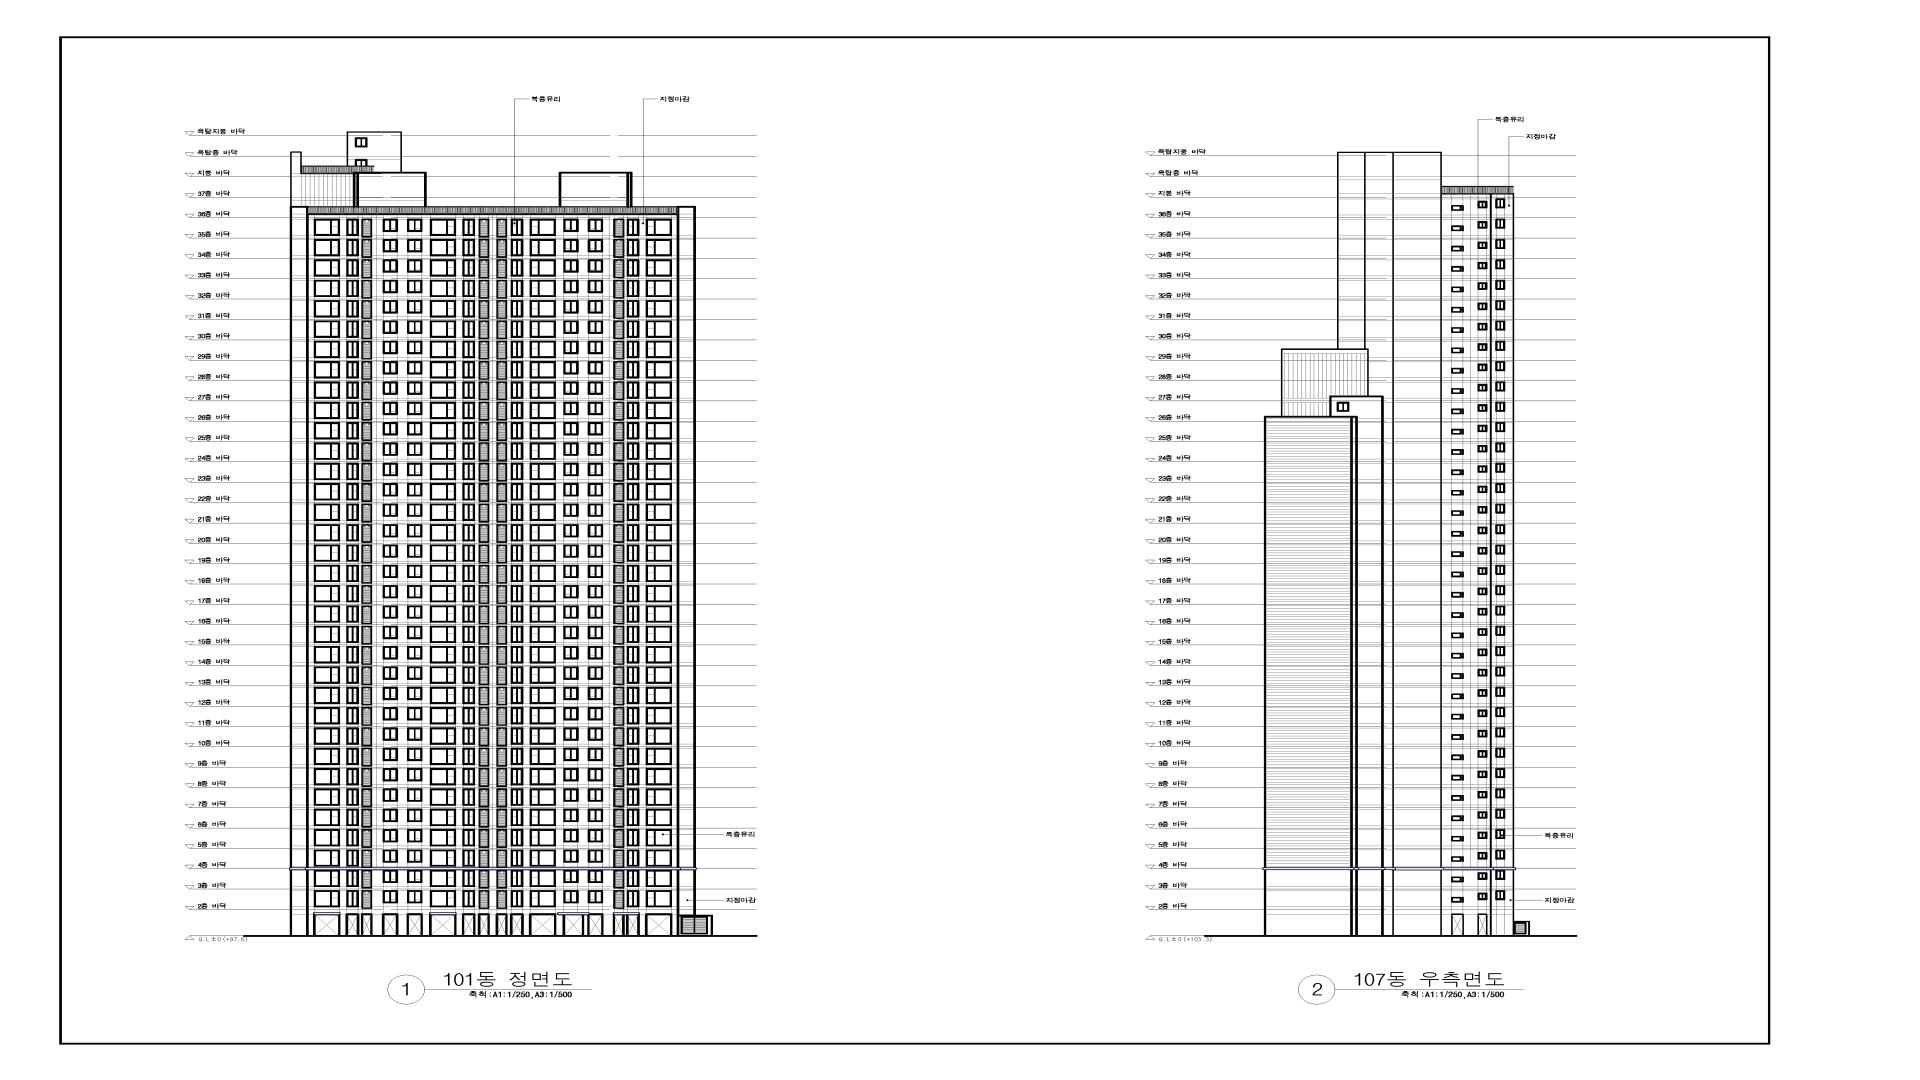door: (313, 913, 340, 935), (529, 914, 556, 935), (645, 914, 673, 935), (429, 915, 456, 935), (563, 914, 584, 935), (381, 913, 398, 935), (406, 913, 423, 935), (587, 914, 604, 935), (345, 913, 360, 935), (462, 914, 476, 935), (510, 913, 524, 935), (1451, 914, 1464, 936), (477, 914, 491, 935), (626, 915, 640, 935), (361, 914, 373, 935), (496, 914, 508, 935), (1477, 914, 1487, 936), (613, 915, 625, 935)
wall: (290, 132, 713, 938), (1263, 152, 1514, 936)
window: (680, 916, 708, 935), (314, 340, 340, 359), (314, 442, 340, 460), (314, 483, 340, 501), (314, 524, 340, 542), (646, 442, 673, 460), (646, 483, 673, 501), (646, 564, 673, 583), (646, 666, 673, 684), (646, 767, 673, 786), (646, 340, 673, 359), (530, 442, 556, 460), (530, 564, 556, 583), (530, 666, 556, 684), (530, 707, 556, 725), (530, 767, 556, 786), (530, 808, 556, 827), (530, 869, 556, 887), (430, 340, 456, 359), (430, 381, 456, 400), (430, 442, 456, 460), (430, 483, 456, 501), (430, 524, 456, 542), (430, 564, 456, 583), (430, 666, 456, 684), (430, 767, 456, 786), (314, 666, 340, 684), (314, 767, 340, 786), (314, 260, 340, 277), (314, 280, 340, 297), (314, 301, 340, 318), (314, 320, 340, 338), (314, 361, 340, 378), (314, 381, 340, 398), (314, 402, 340, 419), (314, 422, 340, 439), (314, 463, 340, 480), (314, 504, 340, 521), (314, 545, 340, 562), (314, 564, 340, 582), (314, 585, 340, 603), (314, 605, 340, 622), (314, 626, 340, 644), (314, 646, 340, 663), (646, 381, 673, 398), (646, 402, 673, 419), (646, 422, 673, 439), (646, 463, 673, 480), (646, 504, 673, 521), (646, 525, 673, 542), (646, 545, 673, 562), (646, 585, 673, 603), (646, 605, 673, 622), (646, 626, 673, 644), (646, 646, 673, 663), (646, 687, 673, 704), (646, 707, 673, 724), (646, 728, 673, 745), (646, 748, 673, 765), (646, 789, 673, 806), (646, 808, 673, 825), (646, 829, 673, 847), (646, 849, 673, 866), (646, 870, 673, 887), (646, 890, 673, 907), (530, 219, 556, 236), (530, 239, 556, 256), (530, 260, 556, 277), (530, 280, 556, 297), (530, 301, 556, 318), (530, 320, 556, 338), (646, 219, 673, 236), (646, 239, 673, 256), (646, 260, 673, 277), (646, 280, 673, 297), (646, 301, 673, 318), (646, 320, 673, 338), (646, 361, 673, 378), (530, 342, 556, 359), (530, 361, 556, 378), (530, 381, 556, 398), (530, 402, 556, 419), (530, 422, 556, 439), (530, 463, 556, 480), (530, 483, 556, 500), (530, 504, 556, 521), (530, 525, 556, 542), (530, 545, 556, 562), (530, 585, 556, 603), (530, 605, 556, 622), (530, 626, 556, 644), (530, 646, 556, 663), (530, 687, 556, 704), (530, 728, 556, 745), (530, 748, 556, 765), (530, 789, 556, 806), (530, 829, 556, 847), (530, 849, 556, 866), (530, 890, 556, 907), (430, 219, 456, 236), (430, 239, 456, 256), (430, 260, 456, 277), (430, 280, 456, 297), (430, 301, 456, 318), (430, 320, 456, 338), (430, 361, 456, 378), (430, 402, 456, 419), (430, 422, 456, 439), (430, 463, 456, 480), (430, 504, 456, 521), (430, 545, 456, 562), (430, 585, 456, 603), (430, 605, 456, 622), (430, 626, 456, 644), (430, 646, 456, 663), (430, 687, 456, 704), (430, 707, 456, 724), (430, 728, 456, 745), (430, 748, 456, 765), (430, 789, 456, 806), (430, 808, 456, 825), (430, 829, 456, 847), (430, 849, 456, 866), (430, 870, 456, 887), (430, 890, 456, 907), (314, 219, 340, 236), (314, 239, 340, 256), (314, 687, 340, 704), (314, 707, 340, 724), (314, 728, 340, 745), (314, 748, 340, 765), (314, 789, 340, 806), (314, 808, 340, 825), (314, 829, 340, 847), (314, 849, 340, 866), (314, 870, 340, 887), (314, 890, 340, 907), (510, 340, 524, 359), (510, 442, 524, 460), (510, 666, 524, 684), (510, 767, 524, 786), (510, 808, 524, 827), (626, 258, 640, 277), (626, 340, 640, 359), (626, 381, 640, 400), (626, 442, 640, 460), (626, 666, 640, 684), (626, 767, 640, 786), (626, 808, 640, 827), (626, 869, 640, 887), (613, 239, 625, 258), (613, 280, 625, 299), (613, 340, 625, 360), (613, 442, 625, 462), (613, 483, 625, 502), (613, 564, 625, 584), (613, 666, 625, 686), (613, 808, 625, 828), (496, 564, 508, 584), (496, 625, 508, 645), (496, 808, 508, 828), (613, 869, 625, 889), (496, 239, 508, 258), (496, 280, 508, 299), (496, 340, 508, 360), (496, 442, 508, 462), (496, 483, 508, 502), (588, 767, 604, 782), (563, 767, 579, 782), (563, 666, 579, 680), (382, 340, 398, 355), (382, 442, 398, 456), (382, 666, 398, 680), (510, 280, 524, 297), (510, 301, 524, 318), (510, 320, 524, 338), (510, 361, 524, 378), (510, 381, 524, 398), (510, 402, 524, 419), (510, 422, 524, 439), (510, 463, 524, 480), (510, 483, 524, 500), (510, 504, 524, 521), (510, 525, 524, 542), (510, 545, 524, 562), (510, 564, 524, 582), (510, 585, 524, 603), (510, 605, 524, 622), (510, 626, 524, 644), (510, 646, 524, 663), (510, 687, 524, 704), (510, 707, 524, 724), (510, 728, 524, 745), (510, 748, 524, 765), (510, 789, 524, 806), (510, 829, 524, 847), (510, 849, 524, 866), (510, 870, 524, 887), (510, 890, 524, 907), (626, 219, 640, 236), (626, 239, 640, 256), (626, 280, 640, 297), (626, 301, 640, 318), (626, 320, 640, 338), (626, 361, 640, 378), (626, 402, 640, 419), (626, 422, 640, 439), (626, 463, 640, 480), (626, 483, 640, 500), (626, 504, 640, 521), (626, 525, 640, 542), (626, 545, 640, 562), (626, 564, 640, 582), (626, 585, 640, 603), (626, 605, 640, 622), (626, 626, 640, 644), (626, 646, 640, 663), (626, 687, 640, 704), (626, 707, 640, 724), (626, 728, 640, 745), (626, 748, 640, 765), (626, 789, 640, 806), (626, 829, 640, 847), (626, 849, 640, 866), (626, 890, 640, 907), (510, 219, 524, 236), (510, 239, 524, 256), (510, 260, 524, 277), (613, 219, 625, 237), (613, 260, 625, 278), (613, 301, 625, 319), (613, 320, 625, 339), (613, 361, 625, 380), (613, 381, 625, 400), (613, 402, 625, 421), (613, 422, 625, 440), (613, 463, 625, 481), (613, 504, 625, 522), (613, 525, 625, 543), (613, 545, 625, 563), (613, 585, 625, 604), (613, 605, 625, 624), (613, 646, 625, 665), (613, 687, 625, 705), (613, 707, 625, 725), (613, 728, 625, 746), (613, 748, 625, 766), (613, 769, 625, 787), (613, 789, 625, 807), (613, 829, 625, 848), (613, 849, 625, 868), (496, 525, 508, 543), (496, 545, 508, 563), (496, 585, 508, 604), (496, 605, 508, 624), (496, 646, 508, 665), (496, 687, 508, 705), (496, 707, 508, 725), (496, 728, 508, 746), (496, 748, 508, 766), (496, 769, 508, 787), (496, 789, 508, 807), (463, 239, 475, 257), (463, 767, 475, 786), (463, 808, 475, 827), (463, 869, 475, 887), (347, 340, 359, 359), (347, 442, 359, 460), (347, 483, 359, 501), (347, 524, 359, 542), (347, 666, 359, 684), (613, 890, 625, 909), (496, 219, 508, 237), (496, 260, 508, 278), (496, 301, 508, 319), (496, 320, 508, 339), (496, 361, 508, 380), (496, 381, 508, 400), (496, 402, 508, 421), (496, 422, 508, 440), (496, 504, 508, 522), (496, 829, 508, 848), (496, 849, 508, 868), (496, 870, 508, 889), (496, 890, 508, 909), (463, 442, 475, 460), (463, 483, 475, 501), (463, 666, 475, 684), (347, 707, 359, 725), (347, 767, 359, 786), (347, 808, 359, 827), (347, 869, 359, 887), (407, 483, 422, 497), (407, 666, 422, 680), (588, 280, 603, 294), (588, 340, 603, 355), (588, 381, 603, 396), (588, 442, 603, 456), (588, 483, 603, 497), (588, 666, 603, 680), (361, 564, 372, 584), (361, 666, 372, 686), (361, 767, 372, 787), (361, 808, 372, 828), (479, 524, 489, 543), (479, 564, 489, 584), (479, 625, 489, 645), (497, 666, 508, 686), (479, 666, 489, 686), (479, 767, 489, 787), (479, 808, 489, 828), (588, 808, 604, 822), (588, 849, 604, 862), (588, 870, 604, 884), (563, 890, 579, 903), (563, 870, 579, 884), (563, 849, 579, 862), (563, 829, 579, 843), (563, 808, 579, 822), (563, 789, 579, 802), (563, 748, 579, 761), (563, 728, 579, 741), (563, 707, 579, 720), (563, 687, 579, 700), (563, 646, 579, 659), (563, 626, 579, 640), (563, 320, 579, 334), (563, 301, 579, 314), (563, 280, 579, 293), (563, 260, 579, 273), (563, 239, 579, 252), (563, 219, 579, 232), (361, 239, 372, 258), (361, 340, 372, 360), (361, 483, 372, 502), (361, 524, 372, 543), (479, 239, 489, 258), (479, 340, 489, 360), (479, 442, 489, 462), (479, 483, 489, 502), (588, 301, 604, 314), (588, 320, 604, 334), (588, 361, 604, 375), (588, 525, 604, 538), (588, 545, 604, 558), (588, 585, 604, 599), (588, 626, 604, 640), (588, 646, 604, 659), (588, 687, 604, 700), (588, 728, 604, 741), (563, 605, 579, 618), (563, 585, 579, 599), (563, 564, 579, 578), (563, 545, 579, 558), (563, 525, 579, 538), (563, 504, 579, 517), (563, 483, 579, 496), (563, 463, 579, 476), (563, 443, 579, 456), (563, 422, 579, 435), (563, 402, 579, 415), (563, 381, 579, 394), (563, 361, 579, 375), (563, 342, 579, 355), (382, 219, 398, 232), (382, 239, 398, 252), (382, 260, 398, 273), (382, 280, 398, 293), (382, 301, 398, 314), (382, 320, 398, 334), (382, 361, 398, 375), (382, 381, 398, 394), (382, 402, 398, 415), (382, 422, 398, 435), (382, 463, 398, 476), (382, 483, 398, 496), (382, 504, 398, 517), (382, 525, 398, 538), (382, 545, 398, 558), (382, 564, 398, 578), (382, 585, 398, 599), (382, 605, 398, 618), (382, 626, 398, 640), (382, 646, 398, 659), (382, 687, 398, 700), (382, 707, 398, 720), (382, 728, 398, 741), (382, 748, 398, 761), (382, 769, 398, 782), (382, 789, 398, 802), (382, 808, 398, 822), (382, 829, 398, 843), (382, 849, 398, 862), (382, 870, 398, 884), (382, 890, 398, 903), (463, 789, 475, 806), (463, 829, 475, 847), (463, 849, 475, 866), (463, 890, 475, 907), (347, 219, 359, 236), (347, 239, 359, 256), (347, 260, 359, 277), (347, 280, 359, 297), (347, 301, 359, 318), (347, 320, 359, 338), (347, 361, 359, 378), (347, 381, 359, 398), (347, 402, 359, 419), (347, 422, 359, 439), (347, 463, 359, 480), (347, 504, 359, 521), (347, 545, 359, 562), (347, 564, 359, 582), (347, 585, 359, 603), (347, 605, 359, 622), (347, 626, 359, 644), (347, 646, 359, 663), (347, 687, 359, 704), (463, 219, 475, 236), (463, 260, 475, 277), (463, 280, 475, 297), (463, 301, 475, 318), (463, 320, 475, 338), (463, 342, 475, 359), (463, 361, 475, 378), (463, 381, 475, 398), (463, 402, 475, 419), (463, 422, 475, 439), (463, 463, 475, 480), (463, 504, 475, 521), (463, 525, 475, 542), (463, 545, 475, 562), (463, 564, 475, 582), (463, 585, 475, 603), (463, 605, 475, 622), (463, 626, 475, 644), (463, 646, 475, 663), (463, 687, 475, 704), (463, 707, 475, 724), (463, 728, 475, 745), (463, 748, 475, 765), (347, 728, 359, 745), (347, 748, 359, 765), (347, 789, 359, 806), (347, 829, 359, 847), (347, 849, 359, 866), (347, 890, 359, 907), (361, 585, 372, 604), (361, 605, 372, 624), (361, 626, 372, 645), (361, 646, 372, 665), (361, 687, 372, 705), (361, 707, 372, 725), (361, 728, 372, 746), (361, 748, 372, 766), (361, 789, 372, 807), (361, 829, 372, 848), (361, 849, 372, 868), (361, 870, 372, 889), (361, 890, 372, 909), (613, 626, 624, 645), (479, 504, 489, 522), (479, 545, 489, 563), (479, 585, 489, 604), (479, 605, 489, 624), (479, 646, 489, 665), (479, 687, 489, 705), (479, 707, 489, 725), (479, 728, 489, 746), (479, 748, 489, 766), (479, 789, 489, 807), (361, 219, 372, 237), (361, 260, 372, 278), (361, 280, 372, 298), (361, 301, 372, 319), (361, 320, 372, 339), (361, 361, 372, 380), (361, 381, 372, 400), (361, 402, 372, 421), (361, 422, 372, 440), (361, 443, 372, 462), (361, 463, 372, 481), (361, 504, 372, 522), (361, 545, 372, 563), (479, 219, 489, 237), (479, 260, 489, 278), (479, 280, 489, 298), (479, 301, 489, 319), (479, 320, 489, 339), (479, 361, 489, 380), (479, 381, 489, 400), (479, 402, 489, 421), (479, 422, 489, 440), (497, 463, 508, 481), (479, 463, 489, 481), (479, 829, 489, 848), (479, 849, 489, 868), (479, 870, 489, 889), (479, 890, 489, 909), (588, 748, 603, 761), (588, 789, 603, 802), (588, 829, 603, 843), (588, 890, 603, 903), (407, 219, 422, 232), (407, 239, 422, 252), (407, 260, 422, 273), (407, 280, 422, 293), (407, 301, 422, 314), (407, 320, 422, 334), (407, 342, 422, 355), (407, 361, 422, 375), (407, 381, 422, 394), (407, 402, 422, 415), (407, 422, 422, 435), (407, 443, 422, 456), (407, 463, 422, 476), (407, 504, 422, 517), (407, 525, 422, 538), (407, 545, 422, 558), (407, 564, 422, 578), (407, 585, 422, 599), (407, 605, 422, 618), (407, 626, 422, 640), (407, 646, 422, 659), (588, 219, 603, 232), (588, 239, 603, 252), (588, 260, 603, 273), (588, 402, 603, 415), (588, 422, 603, 435), (588, 463, 603, 476), (588, 504, 603, 517), (588, 564, 603, 578), (588, 605, 603, 618), (588, 707, 603, 720), (407, 687, 422, 700), (407, 707, 422, 720), (407, 728, 422, 741), (407, 748, 422, 761), (407, 769, 422, 782), (407, 789, 422, 802), (407, 808, 422, 822), (407, 829, 422, 843), (407, 849, 422, 862), (407, 870, 422, 884), (407, 890, 422, 903), (1514, 922, 1527, 935), (355, 137, 368, 148), (355, 158, 368, 167), (1495, 890, 1506, 901), (1495, 869, 1506, 880), (1495, 849, 1506, 860), (1495, 828, 1506, 839), (1495, 789, 1506, 799), (1495, 767, 1506, 778), (1495, 748, 1506, 758), (1495, 727, 1506, 737), (1495, 707, 1506, 717), (1495, 666, 1506, 676), (1495, 646, 1506, 657), (1495, 625, 1506, 636), (1495, 605, 1506, 616), (1495, 585, 1506, 596), (1495, 564, 1506, 575), (1495, 545, 1506, 555), (1495, 524, 1506, 534), (1495, 504, 1506, 514), (1495, 483, 1506, 493), (1495, 442, 1506, 452), (1495, 422, 1506, 433), (1495, 381, 1506, 392), (1495, 361, 1506, 372), (1495, 320, 1506, 331), (1495, 299, 1506, 310), (1495, 280, 1506, 290), (1495, 258, 1506, 269), (1495, 239, 1506, 249), (1337, 402, 1349, 411), (1495, 808, 1505, 819), (1495, 463, 1505, 473), (1495, 402, 1506, 411), (1495, 340, 1505, 351), (1495, 219, 1505, 229), (1495, 198, 1505, 208), (1451, 774, 1464, 781), (1451, 754, 1464, 761), (1451, 713, 1464, 720), (1451, 673, 1464, 679), (1451, 612, 1464, 618), (1451, 571, 1464, 578), (1451, 489, 1464, 496), (1451, 448, 1464, 455), (1451, 429, 1464, 435), (1451, 388, 1464, 394), (1451, 347, 1464, 353), (1451, 327, 1464, 334), (1451, 286, 1464, 293), (1451, 245, 1464, 252), (1451, 897, 1464, 903), (1451, 856, 1464, 862), (1451, 815, 1464, 822), (1495, 687, 1505, 696), (1477, 893, 1487, 901), (1477, 872, 1487, 880), (1477, 852, 1487, 860), (1477, 831, 1487, 839), (1477, 811, 1487, 819), (1477, 791, 1487, 799), (1477, 770, 1487, 778), (1477, 750, 1487, 758), (1477, 729, 1487, 737), (1477, 709, 1487, 717), (1477, 669, 1487, 676), (1477, 649, 1487, 657), (1477, 628, 1487, 636), (1477, 608, 1487, 616), (1477, 567, 1487, 575), (1477, 547, 1487, 555), (1477, 526, 1487, 534), (1477, 506, 1487, 514), (1477, 485, 1487, 493), (1477, 465, 1487, 473), (1477, 444, 1487, 452), (1477, 425, 1487, 433), (1477, 404, 1487, 411), (1477, 384, 1487, 392), (1477, 343, 1487, 351), (1477, 323, 1487, 331), (1477, 302, 1487, 310), (1477, 282, 1487, 290), (1477, 261, 1487, 269), (1477, 241, 1487, 249), (1477, 222, 1487, 229), (1477, 200, 1487, 208), (1451, 795, 1464, 800), (1451, 735, 1464, 740), (1451, 694, 1464, 699), (1451, 653, 1464, 658), (1451, 633, 1464, 638), (1451, 592, 1464, 597), (1451, 551, 1464, 556), (1451, 531, 1464, 537), (1451, 510, 1464, 516), (1451, 469, 1464, 475), (1451, 409, 1464, 414), (1451, 368, 1464, 373), (1451, 307, 1464, 313), (1451, 266, 1464, 272), (1451, 225, 1464, 231), (1451, 206, 1464, 211), (1477, 690, 1487, 696), (1477, 588, 1487, 595), (1477, 364, 1487, 371), (1451, 877, 1464, 882), (1451, 836, 1464, 841)
